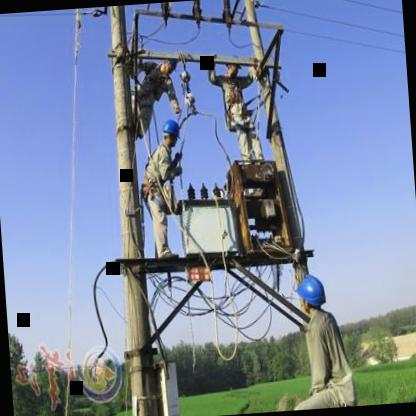helmet: (297, 273, 330, 318), (159, 118, 182, 146), (159, 56, 180, 76)
